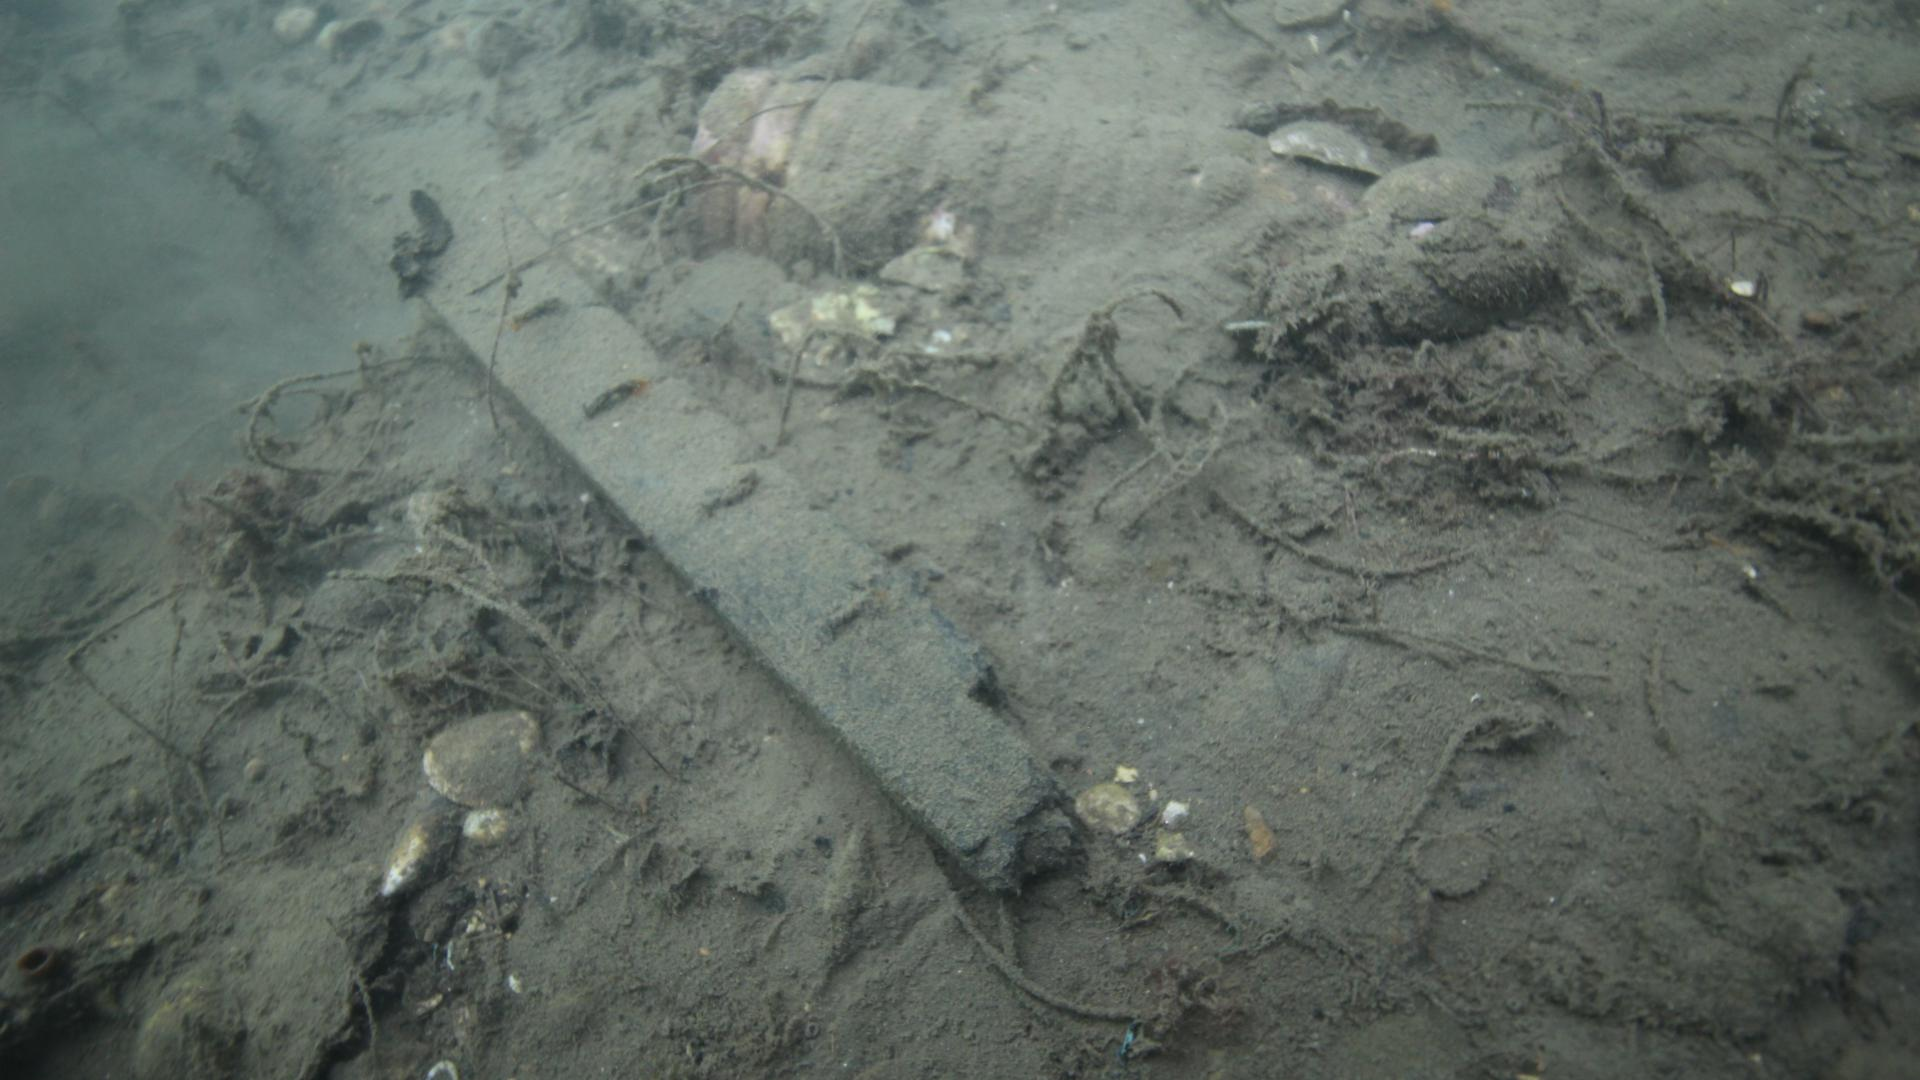wood: (425, 194, 1072, 898)
